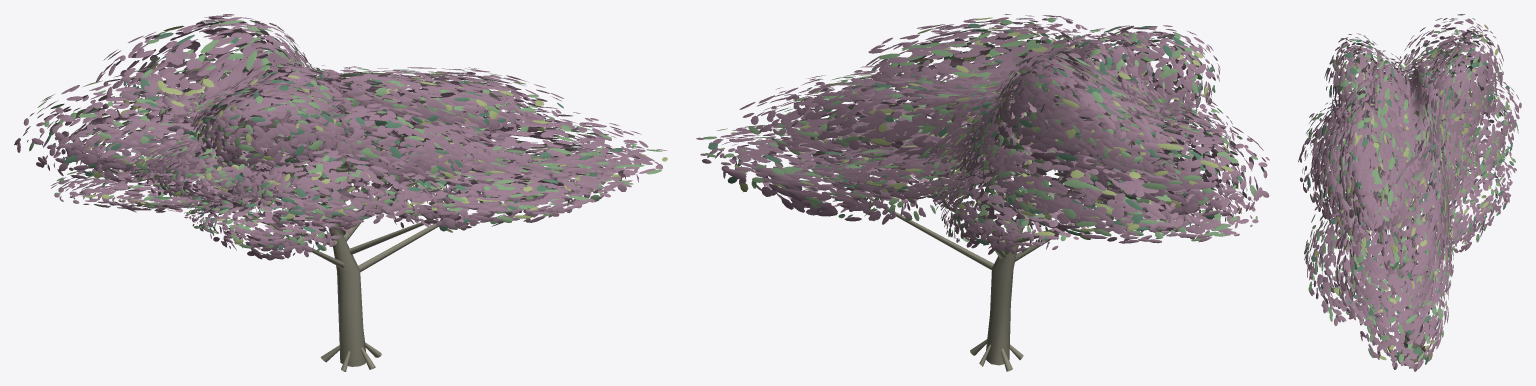
The model's file is grove_2.glb.
3 views of the same model, side by side, from view 1: azimuth 30°, elevation 25°; view 2: azimuth 150°, elevation 25°; view 3: azimuth 270°, elevation 25° (orthographic). The views are drawn at different scales.
Visible parts, largest first — view 1: study_canopy_2_StudyLeafPurple, study_canopy_2_StudyLeafJade, study_canopy_2_StudyLeafDeep, study_canopy_2_StudyBark, study_canopy_2_StudyLeafGold; view 2: study_canopy_2_StudyLeafPurple, study_canopy_2_StudyLeafJade, study_canopy_2_StudyLeafDeep, study_canopy_2_StudyLeafGold, study_canopy_2_StudyBark; view 3: study_canopy_2_StudyLeafPurple, study_canopy_2_StudyLeafJade, study_canopy_2_StudyLeafDeep, study_canopy_2_StudyLeafGold, study_canopy_2_StudyBark.
Part boxes in pixels (<box>): study_canopy_2_StudyLeafPurple: <box>14,14,666,260</box>; study_canopy_2_StudyLeafJade: <box>29,20,662,259</box>; study_canopy_2_StudyLeafDeep: <box>46,21,636,254</box>; study_canopy_2_StudyBark: <box>156,105,490,371</box>; study_canopy_2_StudyLeafGold: <box>37,25,667,250</box>; study_canopy_2_StudyLeafPurple: <box>696,14,1269,254</box>; study_canopy_2_StudyLeafJade: <box>703,18,1257,254</box>; study_canopy_2_StudyLeafDeep: <box>708,20,1264,252</box>; study_canopy_2_StudyLeafGold: <box>717,17,1247,239</box>; study_canopy_2_StudyBark: <box>832,65,1161,371</box>; study_canopy_2_StudyLeafPurple: <box>1298,14,1521,371</box>; study_canopy_2_StudyLeafJade: <box>1304,18,1517,362</box>; study_canopy_2_StudyLeafDeep: <box>1304,35,1513,364</box>; study_canopy_2_StudyLeafGold: <box>1304,24,1513,360</box>; study_canopy_2_StudyBark: <box>1352,85,1471,368</box>.
Bounding box in the file's own units: 17.45 × 9.48 × 6.98.
